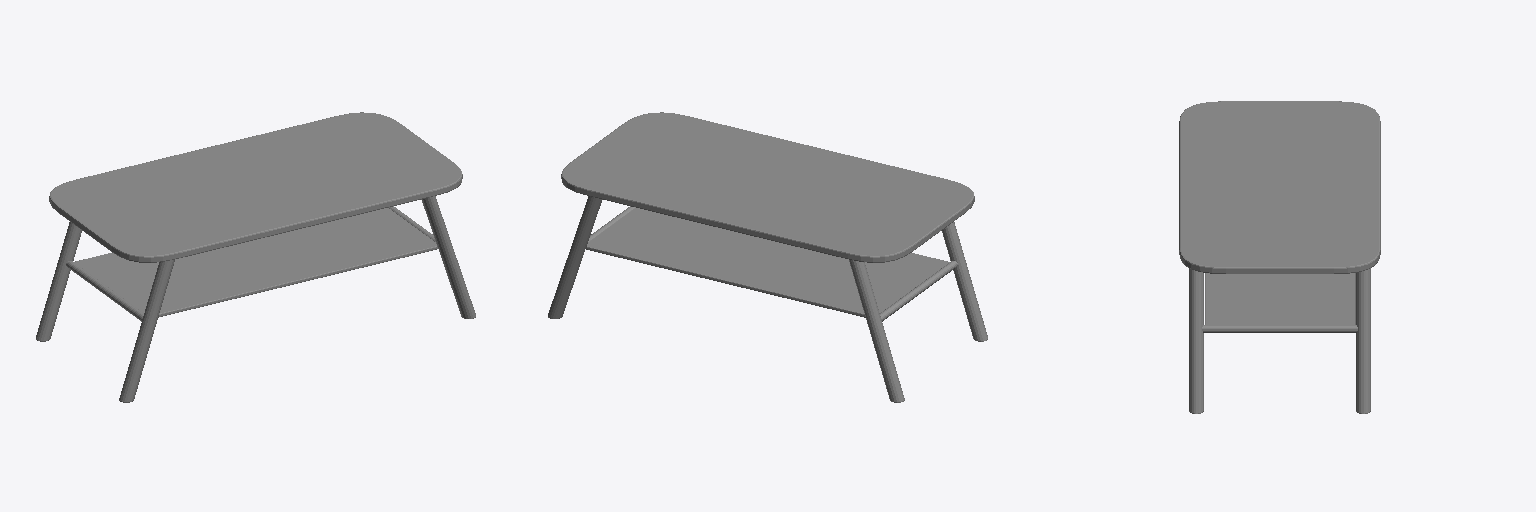
Rendered from coffee_table.obj.
3 renders of one model, left to right at view 1: azimuth 30°, elevation 25°; view 2: azimuth 150°, elevation 25°; view 3: azimuth 270°, elevation 25°, orthographic.
Parts seen in each view (by area): view 1: coffee_table; view 2: coffee_table; view 3: coffee_table.
Boxes of the visible parts, <box> form: coffee_table: <box>36,112,475,402</box>; coffee_table: <box>548,112,987,402</box>; coffee_table: <box>1179,101,1380,413</box>.
Size of the model in its own units: 81.46 by 31.44 by 40.